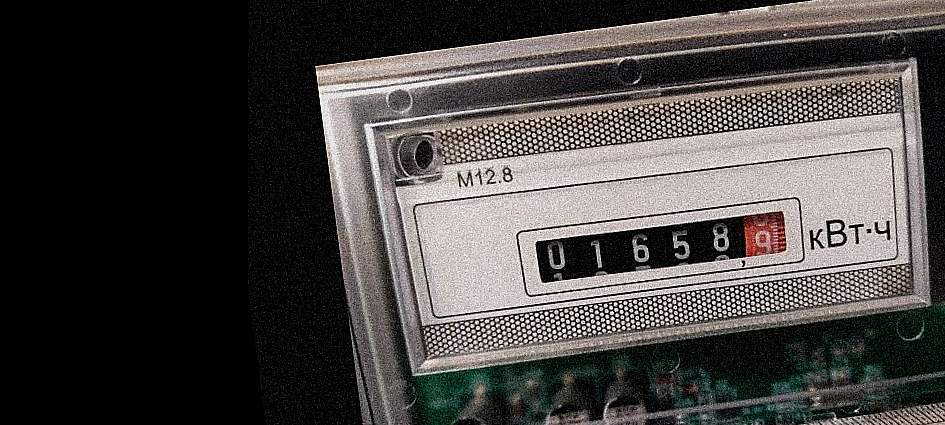0: (544, 238, 568, 271)
1: (587, 236, 608, 270)
5: (669, 227, 694, 260)
6: (629, 229, 653, 264)
8: (709, 219, 733, 253)
9: (751, 227, 775, 258)
screen: (506, 185, 814, 306)
